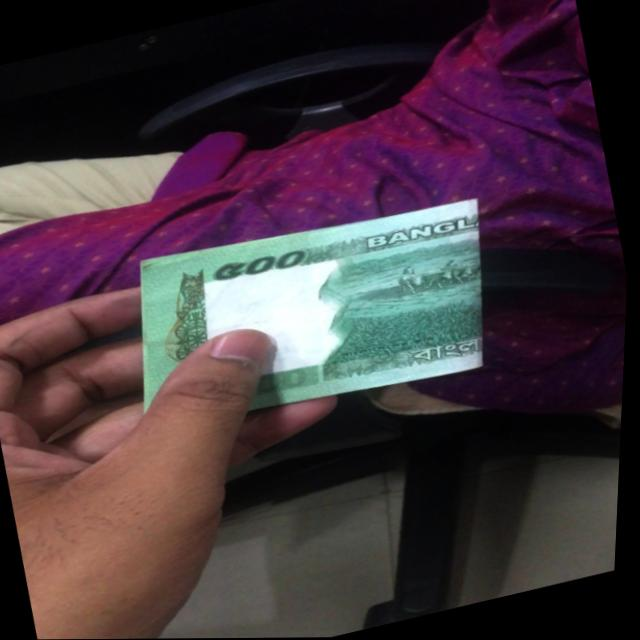Taka: (106, 182, 505, 444)
